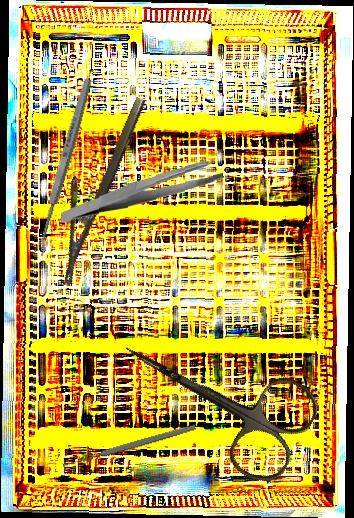Dressing Forceps: (59, 159, 225, 224)
Iris Scissors: (99, 298, 327, 493)
Needle Holder: (33, 86, 148, 287)
Surgical Spoon: (32, 77, 94, 257), (61, 423, 197, 469)
